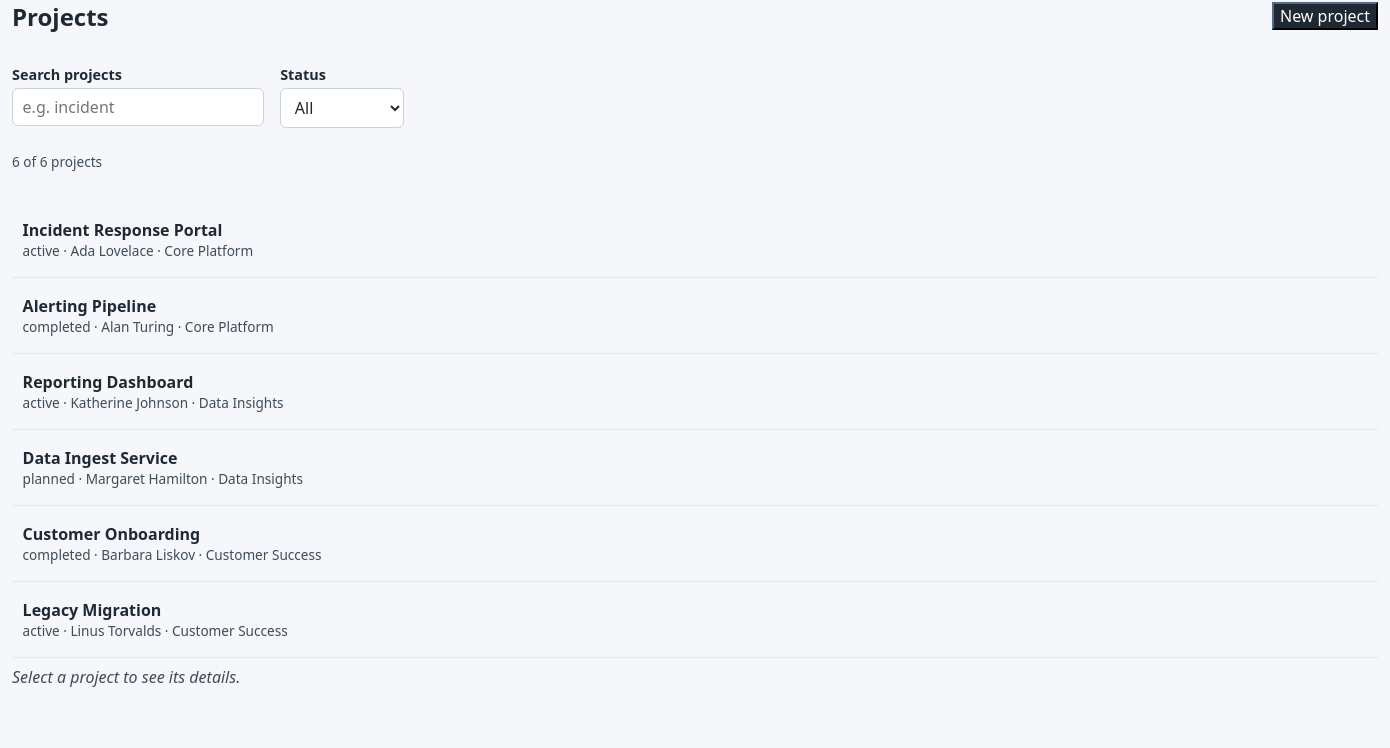
Scenario: ProjectsComponent › edits a project name and status with only valid transitions (PRJ-EDIT)
This screenshot has width=1390, height=748.
Click the button that starts with "Data Ingest Service". click: point(100, 458)
box: [12, 438, 1378, 497]
(page scrolled)
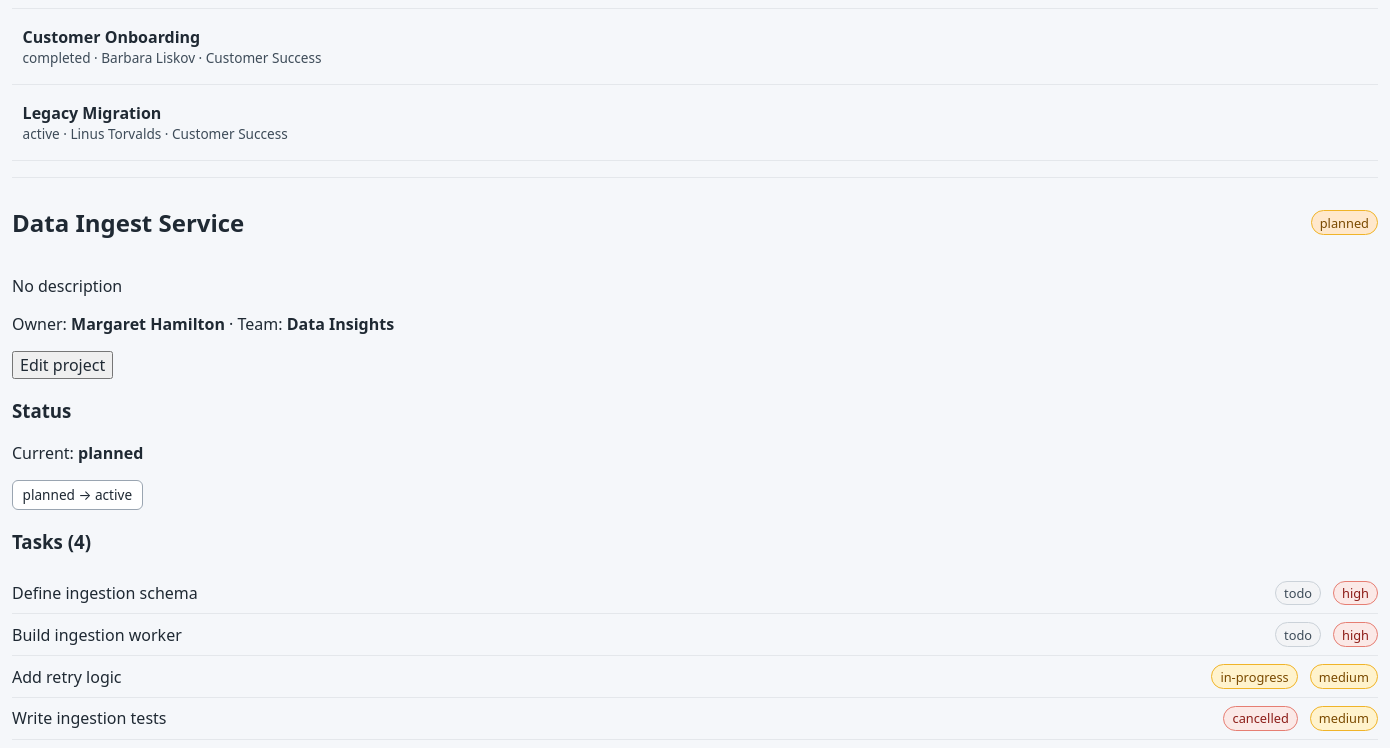
Click the button "Edit project". click: point(63, 365)
box: [12, 351, 113, 379]
(page scrolled)
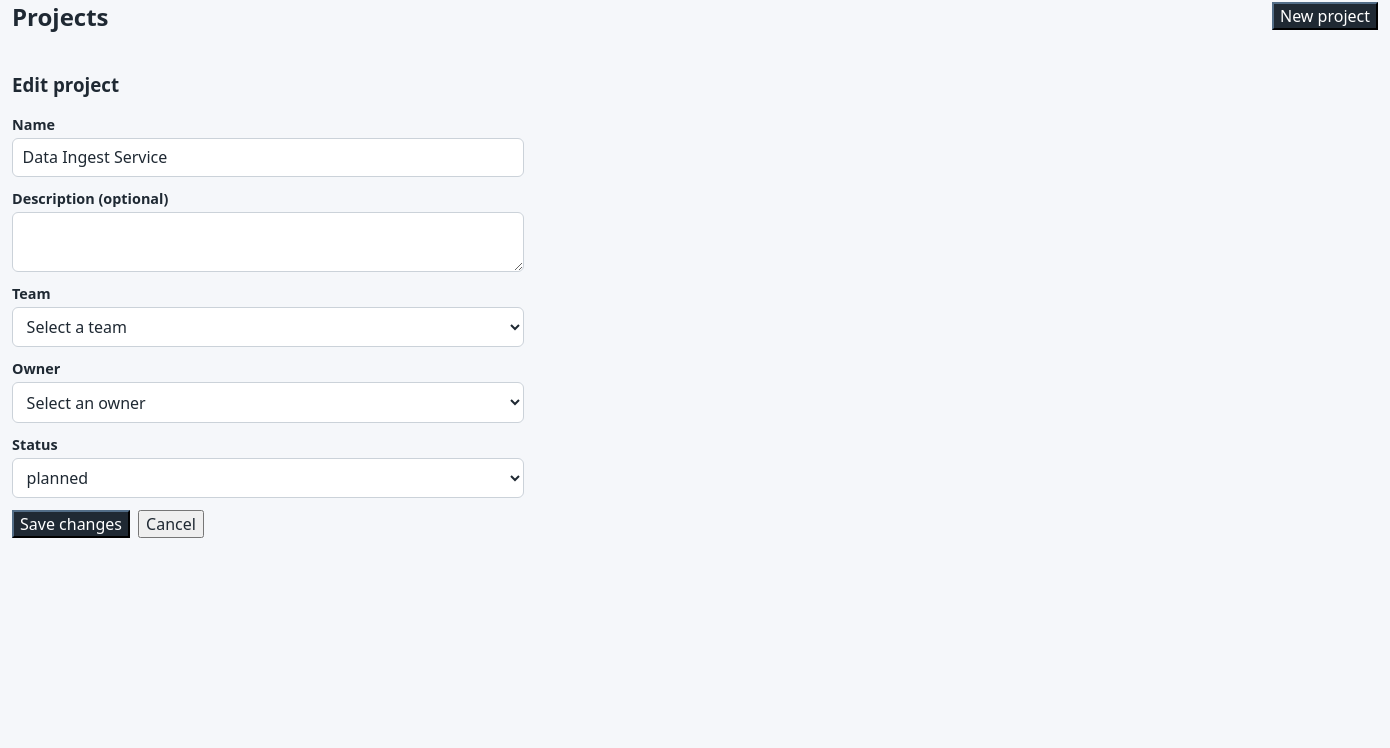
Replace the text in the field labelled "Name" with "Renamed Project". click: point(268, 158)
box: [12, 138, 524, 177]
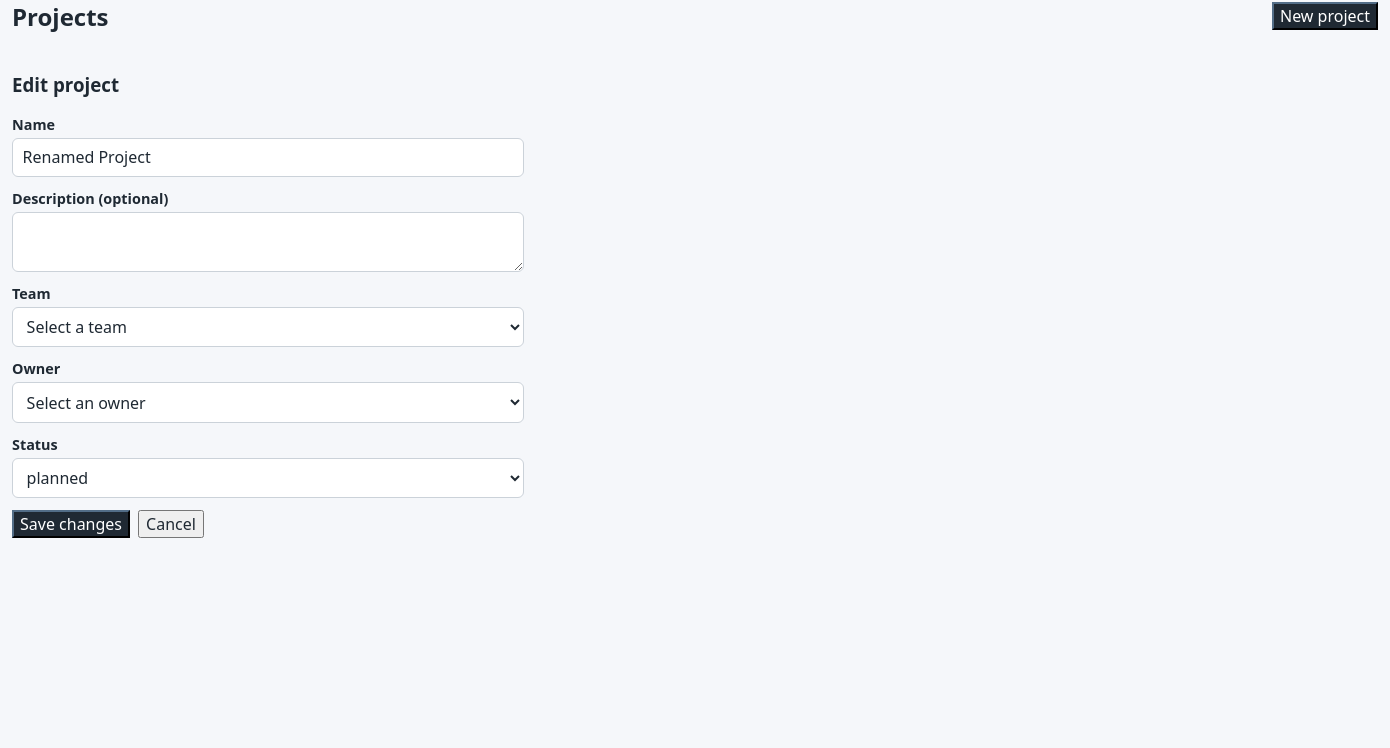
Select "active" in the dropdown labelled "Status". click: point(268, 478)
box: [12, 458, 524, 498]
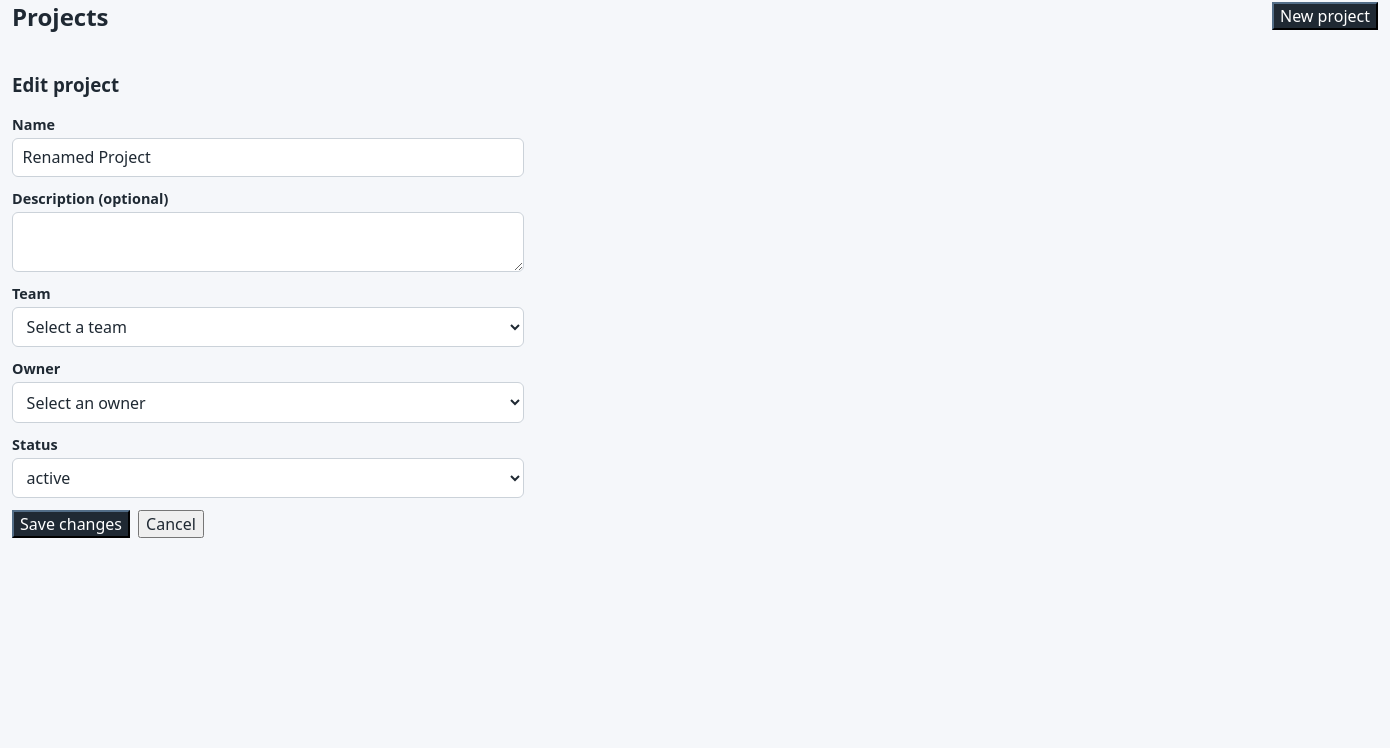
Submit the form, box [12, 72, 524, 538]
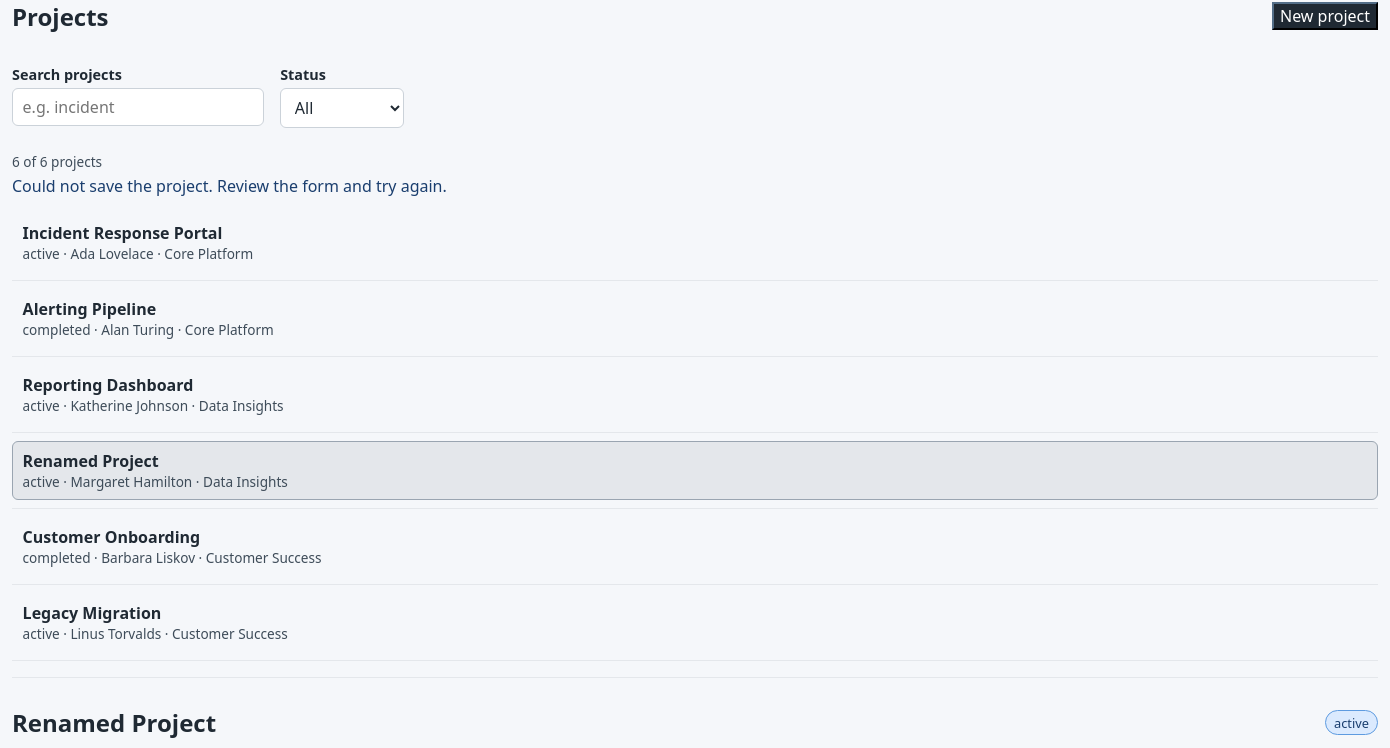
Expected: the text "Renamed Project" is shown, [23, 450, 159, 472]
Expected: the text "active" is shown, [1325, 710, 1378, 735]
